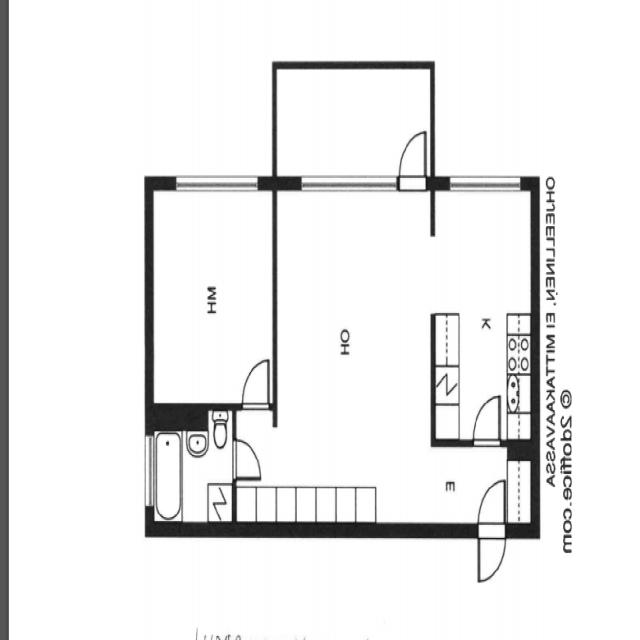door: (473, 477, 510, 588), (237, 351, 274, 413), (470, 390, 504, 450), (228, 432, 265, 486), (396, 126, 430, 184)
window: (149, 409, 235, 532), (292, 166, 402, 202), (168, 166, 266, 202), (440, 165, 528, 199), (140, 426, 160, 515)
zone: (267, 183, 436, 524), (148, 184, 278, 410), (434, 181, 534, 445), (146, 408, 238, 532)
